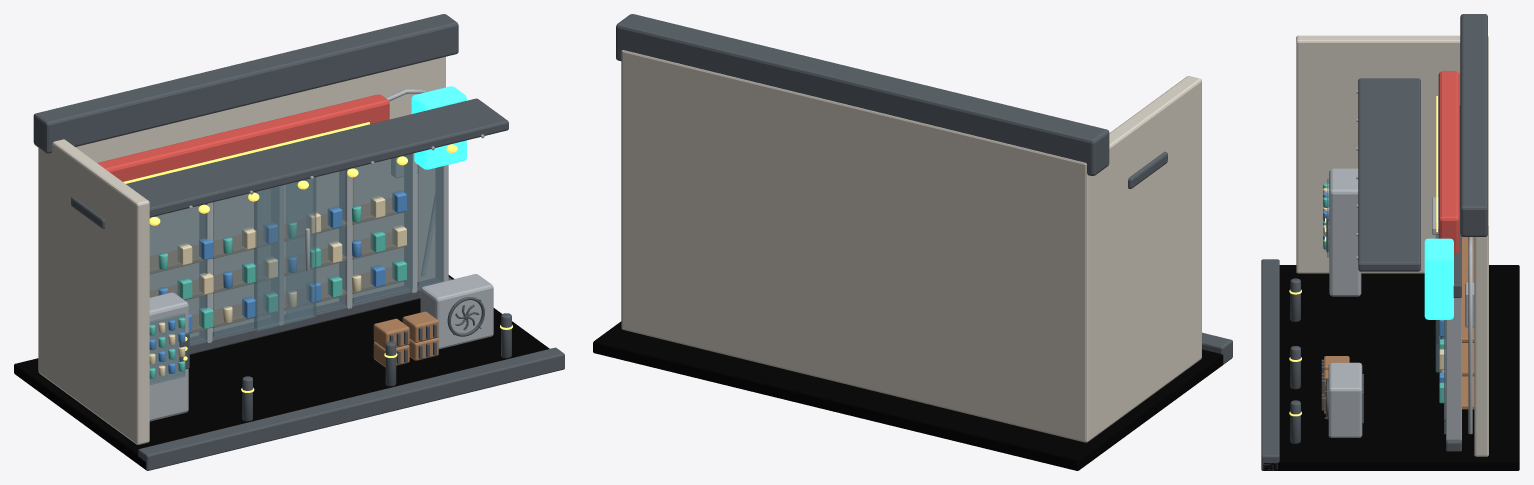
The model's file is webtoon_corner_store_facade.glb.
3 renders of one model, left to right at view 1: azimuth 30°, elevation 25°; view 2: azimuth 150°, elevation 25°; view 3: azimuth 270°, elevation 25°, orthographic. The views are drawn at different scales.
Parts seen in each view (by area): view 1: webtoon_corner_store_facade_Batch_06_StoreCharcoal, webtoon_corner_store_facade_Batch_08_StoreGlass, Store_LeftReturn, Store_Pavement, Store_BackWall, Store_Door, webtoon_corner_store_facade_Batch_04_StoreAluminium, Store_MainSign, webtoon_corner_store_facade_Batch_09_StoreWood, Store_ACBody, Store_VendingBody, webtoon_corner_store_facade_Batch_03_ProductMint (+4 smaller); view 2: Store_BackWall, Store_LeftReturn, webtoon_corner_store_facade_Batch_06_StoreCharcoal, Store_Pavement; view 3: Store_Pavement, webtoon_corner_store_facade_Batch_06_StoreCharcoal, Store_LeftReturn, Store_VendingBody, Store_MainSign, webtoon_corner_store_facade_Batch_04_StoreAluminium, Store_BackWall, Store_ACBody, Store_CornerLightbox, webtoon_corner_store_facade_Batch_09_StoreWood, webtoon_corner_store_facade_Batch_05_StoreAmberLight, webtoon_corner_store_facade_Batch_03_ProductMint (+4 smaller).
Boxes of the visible parts, x1,y1,x2,y2 form: webtoon_corner_store_facade_Batch_06_StoreCharcoal: (33,14,564,470); webtoon_corner_store_facade_Batch_08_StoreGlass: (149,153,443,384); Store_LeftReturn: (44,139,149,444); Store_Pavement: (14,275,549,469); Store_BackWall: (38,56,445,376); Store_Door: (254,177,316,331); webtoon_corner_store_facade_Batch_04_StoreAluminium: (189,89,484,342); Store_MainSign: (97,94,389,181); webtoon_corner_store_facade_Batch_09_StoreWood: (150,198,438,367); Store_ACBody: (420,274,493,349); Store_VendingBody: (149,292,188,421); webtoon_corner_store_facade_Batch_03_ProductMint: (149,205,406,378); Store_BackWall: (621,50,1094,442); Store_LeftReturn: (1089,76,1201,440); webtoon_corner_store_facade_Batch_06_StoreCharcoal: (616,14,1232,364); Store_Pavement: (593,321,1223,470); Store_Pavement: (1263,265,1519,470); webtoon_corner_store_facade_Batch_06_StoreCharcoal: (1261,14,1487,470); Store_LeftReturn: (1296,35,1460,273); Store_VendingBody: (1329,168,1361,296); Store_MainSign: (1438,71,1459,253); webtoon_corner_store_facade_Batch_04_StoreAluminium: (1356,90,1474,439); Store_BackWall: (1474,36,1488,456); Store_ACBody: (1328,362,1362,437); Store_CornerLightbox: (1424,238,1453,319); webtoon_corner_store_facade_Batch_09_StoreWood: (1324,236,1474,414); webtoon_corner_store_facade_Batch_05_StoreAmberLight: (1289,96,1437,416); webtoon_corner_store_facade_Batch_03_ProductMint: (1323,183,1445,403).
Bounding box in the file's own units: 7.6 × 4.72 × 4.21.
Materials: 12 (1 with a texture image).
